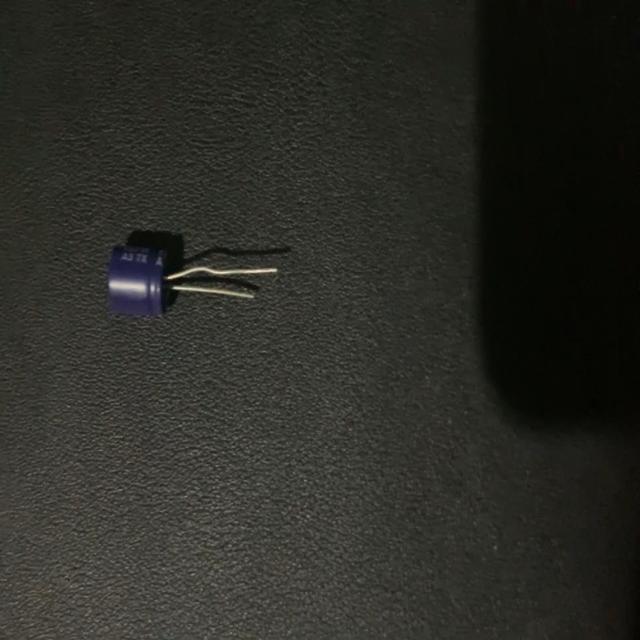capacitor: (105, 236, 280, 319)
